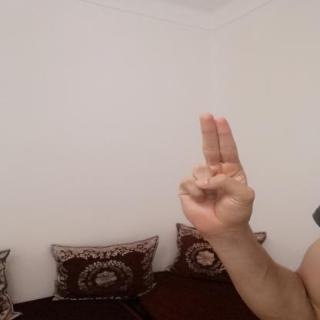TA: (167, 106, 261, 243)
